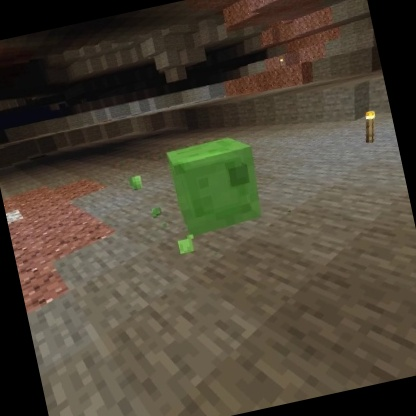slime: (162, 128, 271, 243)
